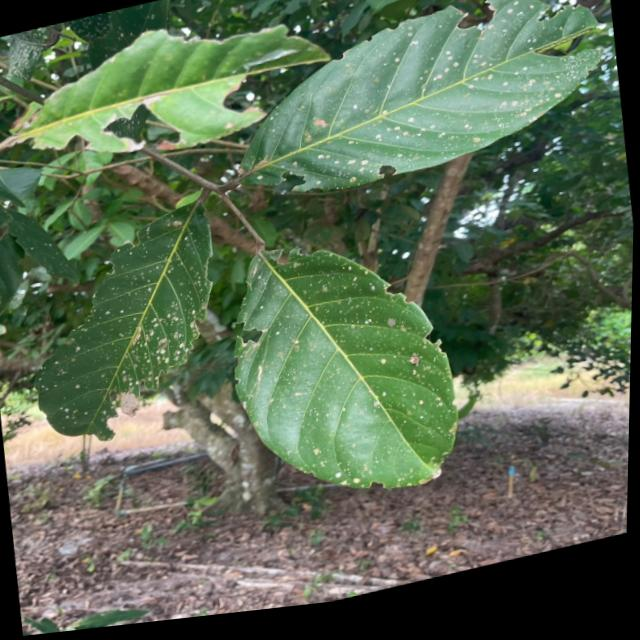Algal Leaf Spot: (264, 31, 612, 222), (0, 206, 270, 441), (227, 234, 367, 549)
